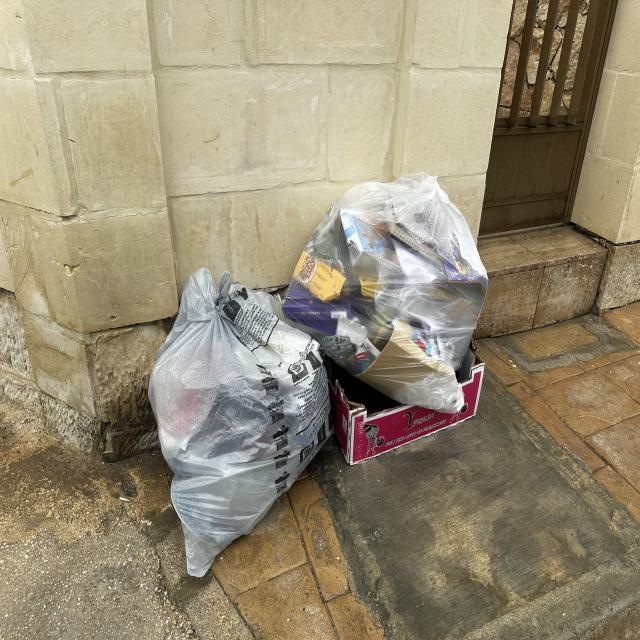Others Waste: (328, 337, 485, 467)
Recyclable Material -Grey Bags-: (146, 173, 489, 575)
